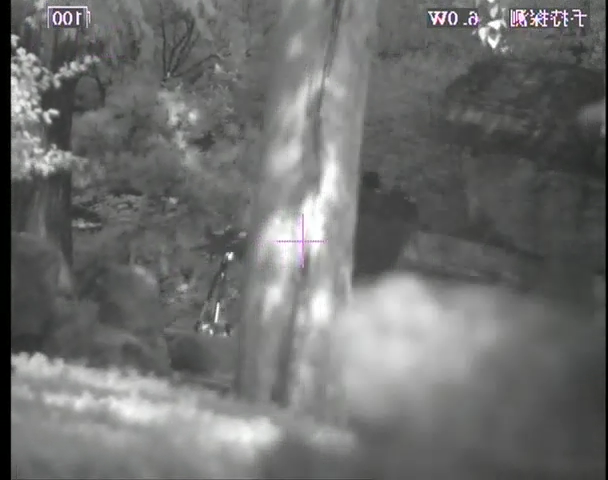my: (225, 250, 234, 262)
